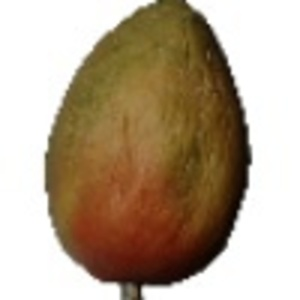mamão: (39, 3, 255, 289)
